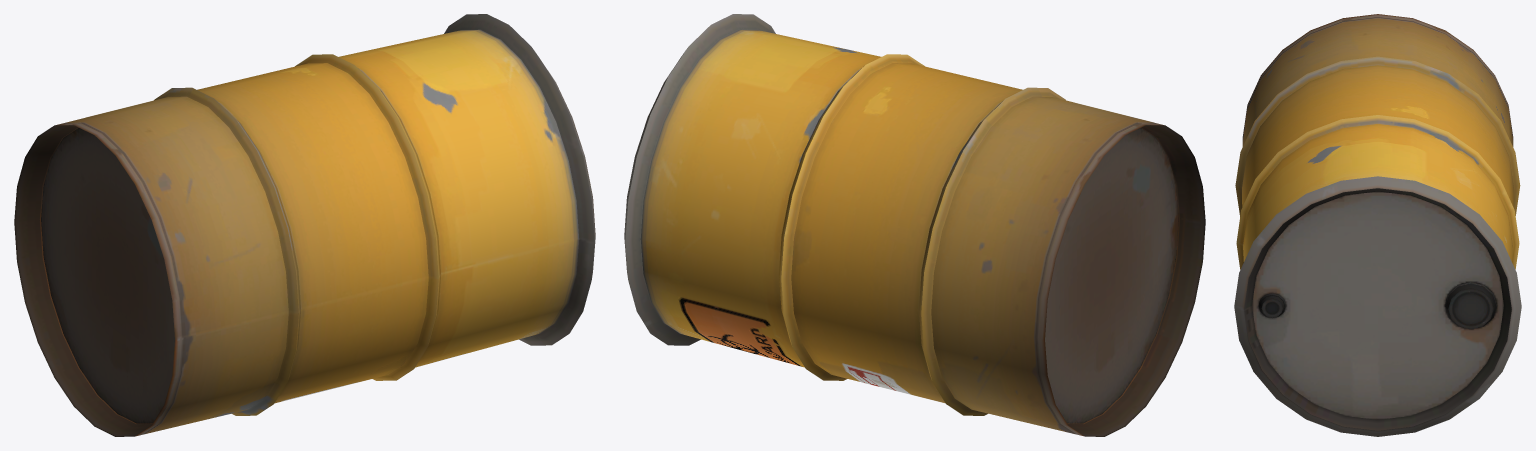
Rendered from props_badlands_barrel01.glb.
3 renders of one model, left to right at view 1: azimuth 30°, elevation 25°; view 2: azimuth 150°, elevation 25°; view 3: azimuth 270°, elevation 25°, orthographic. The views are drawn at different scales.
Parts seen in each view (by area): view 1: models/props_badlands/barrel01; view 2: models/props_badlands/barrel01; view 3: models/props_badlands/barrel01.
Boxes of the visible parts, box(x1,y1,x2,y2) form: models/props_badlands/barrel01: box(14, 14, 595, 436); models/props_badlands/barrel01: box(624, 14, 1205, 436); models/props_badlands/barrel01: box(1234, 14, 1521, 436).
Bounding box in the file's own units: 80.01 × 56.22 × 56.22.
1 material, 1 textured.
